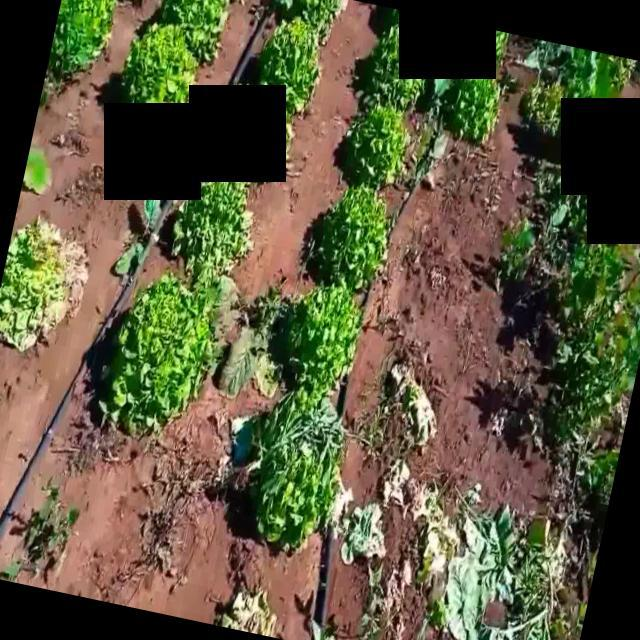Lettuce: (98, 272, 219, 431), (252, 390, 344, 551), (1, 220, 92, 350), (276, 282, 362, 398), (310, 181, 391, 289), (170, 180, 252, 278), (259, 15, 321, 117), (343, 102, 412, 192), (124, 20, 197, 104), (48, 0, 115, 80), (365, 23, 422, 112), (157, 0, 226, 63), (445, 68, 499, 148), (278, 0, 339, 34)
